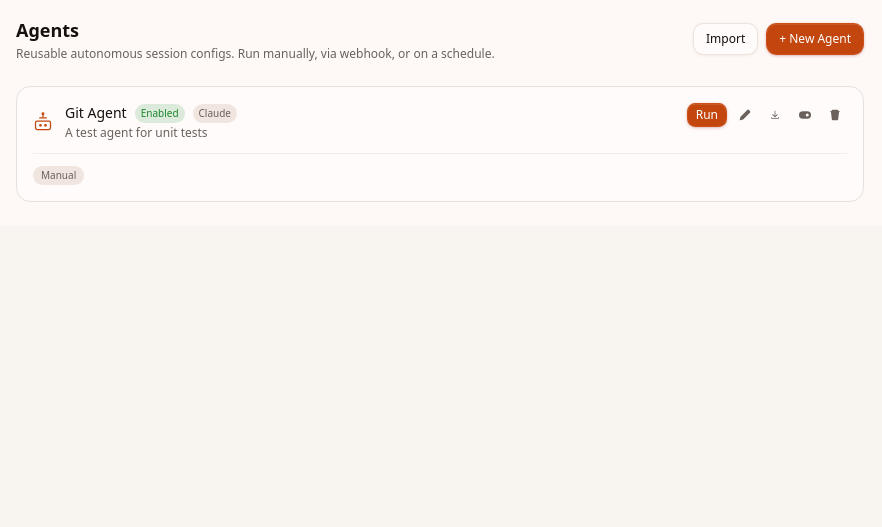
AgentsPage › branch pill shows create and worktree checkboxes when branch is typed
Check: the heading "Git Agent" is shown, box [65,103,127,123]
Click the button titled "Edit" at (745, 115), box [733,103,757,127]
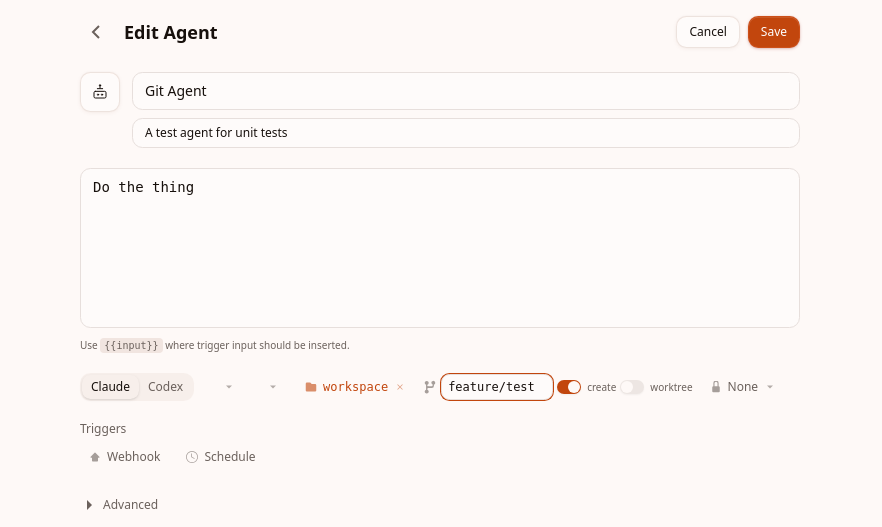
Check: the field showing "feature/test" next to "create" is shown, box [441,374,553,400]
Check: the checkbox "create" is shown, box [557,380,616,394]
Check: the checkbox "worktree" is shown, box [620,380,693,394]
